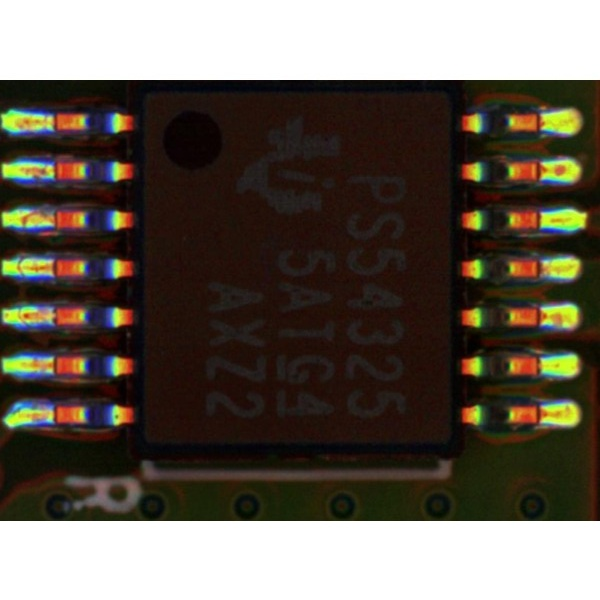Bad_podu: (39, 357, 64, 371), (526, 308, 548, 322), (528, 407, 552, 419), (41, 309, 65, 321), (528, 163, 550, 175), (41, 115, 67, 125), (529, 263, 550, 275), (40, 261, 65, 271), (42, 213, 66, 223)
